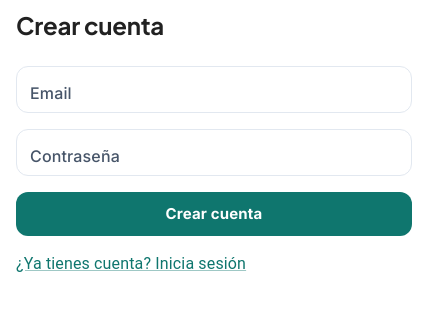
Test: SignupView › shows field errors and sends nothing when the form is empty
Click the button "Crear cuenta" at (214,214), box x1=16 y1=192 x2=412 y2=236
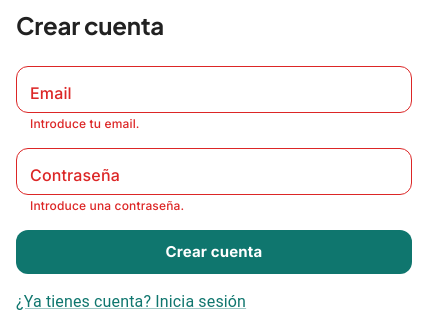
Expected: the text "Introduce tu email." is shown, x1=30 y1=116 x2=140 y2=131
Expected: the text "Introduce una contraseña." is shown, x1=30 y1=198 x2=184 y2=213
